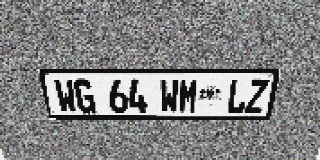4: (127, 79, 147, 113)
6: (107, 79, 128, 113)
G: (73, 79, 96, 113)
L: (226, 79, 249, 113)
M: (178, 79, 199, 113)
W: (53, 79, 78, 113), (160, 79, 179, 113)
Z: (244, 79, 269, 113)
